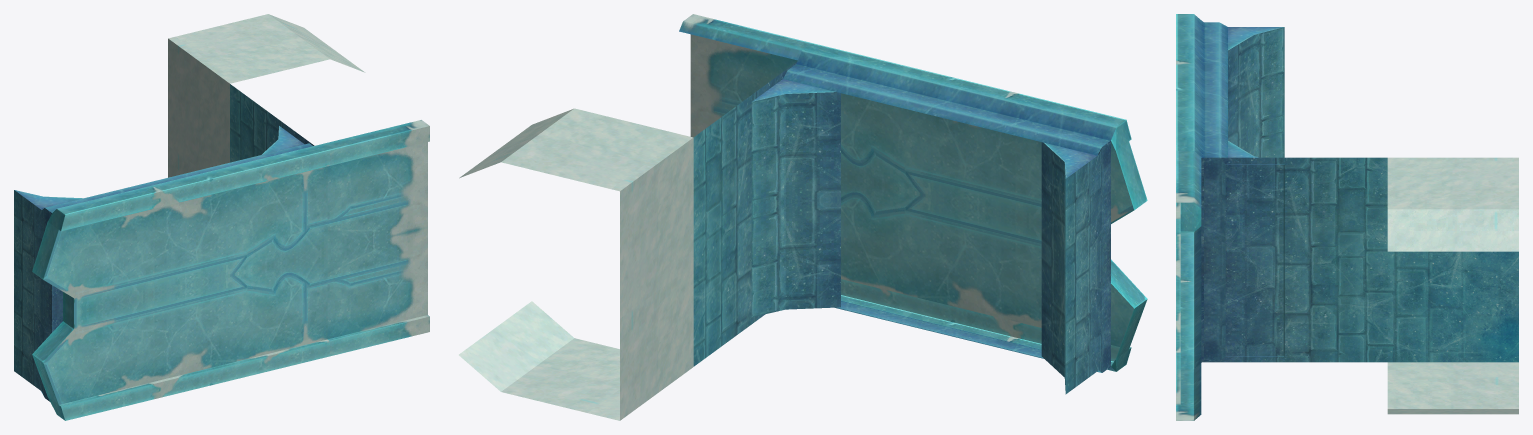
File: huodong_fuben_660_jingjietai02.obj
3 views of the same model, side by side, from view 1: azimuth 30°, elevation 25°; view 2: azimuth 150°, elevation 25°; view 3: azimuth 270°, elevation 25° (orthographic). The views are drawn at different scales.
Visible parts, largest first — view 1: huodong_fuben_660_jingjietai02; view 2: huodong_fuben_660_jingjietai02; view 3: huodong_fuben_660_jingjietai02.
Part boxes in pixels (x1,y1,x2,y2): huodong_fuben_660_jingjietai02: (14,14,429,420); huodong_fuben_660_jingjietai02: (459,14,1147,420); huodong_fuben_660_jingjietai02: (1176,14,1518,420).
Bounding box in the file's own units: 898 × 421 × 599.
3 materials, 3 textured.
